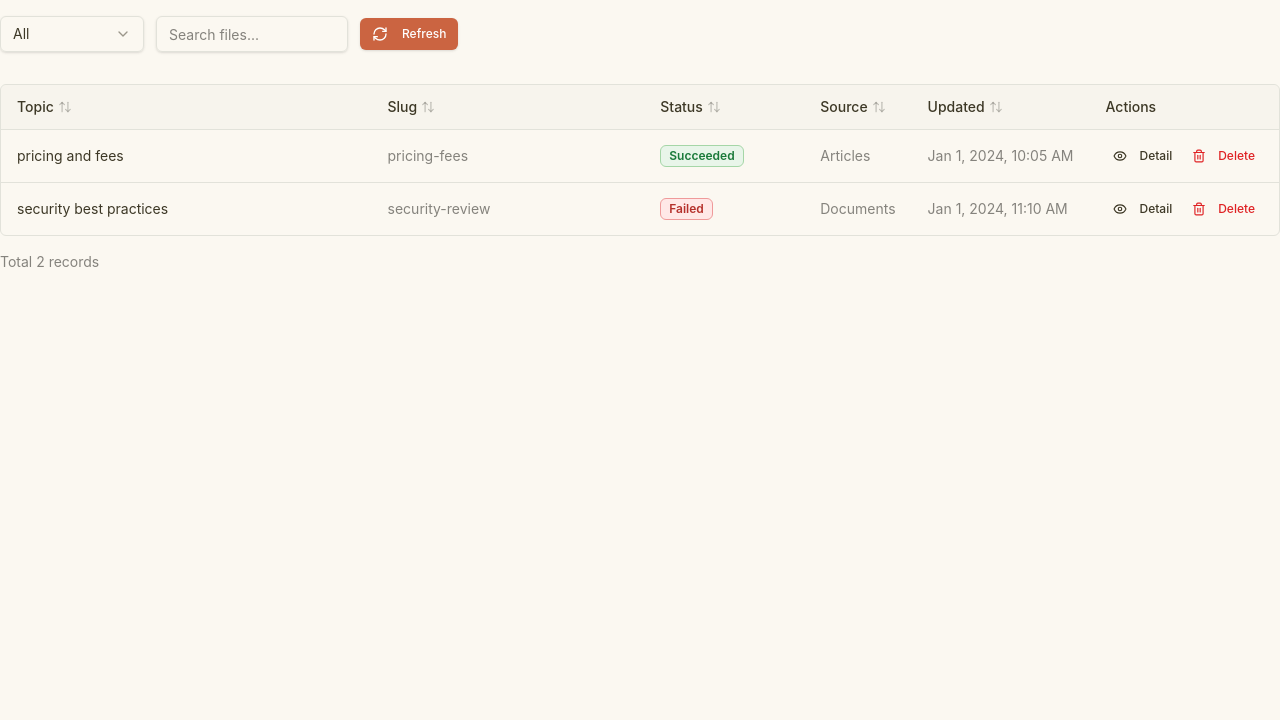
Test: DeriveJobsTab › detail sheet › shows optimistic data on detail fetch failure
This screenshot has width=1280, height=720.
Click the button "Detail" in the row of "pricing and fees": (1143, 156) [1106,142,1180,170]
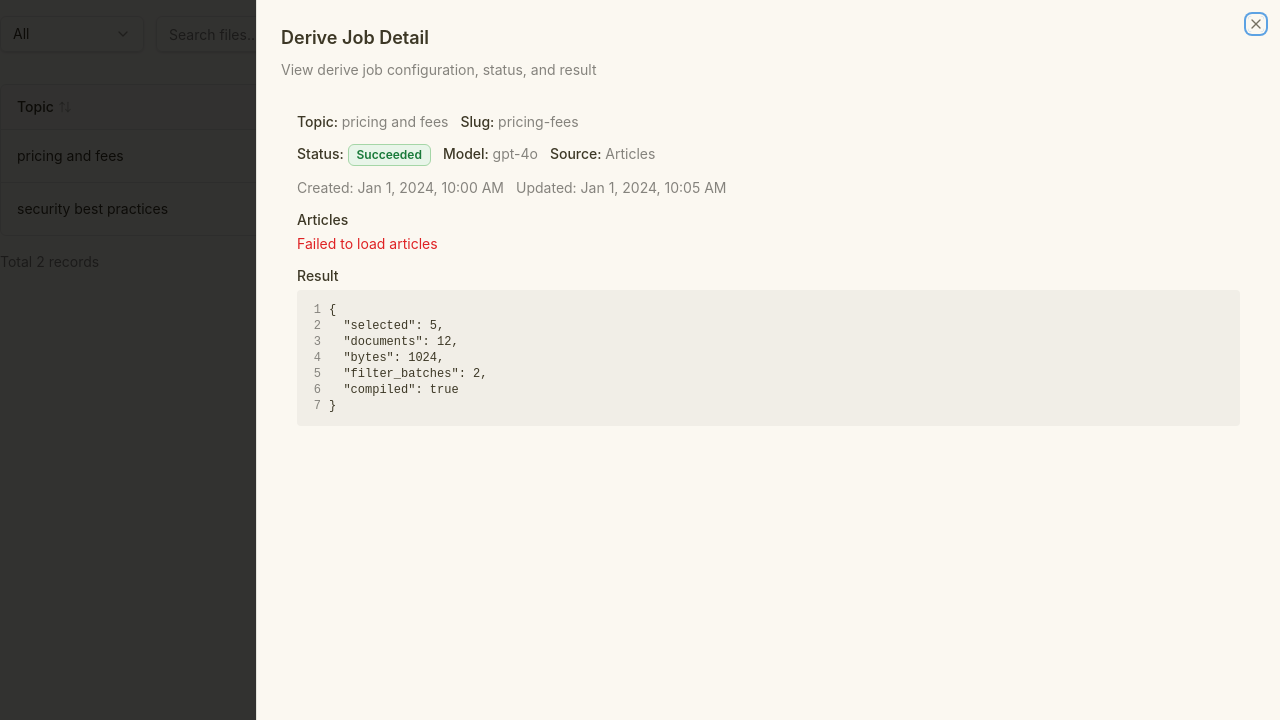
Expected: the text "pricing and fees" is shown, [342,113,448,130]
